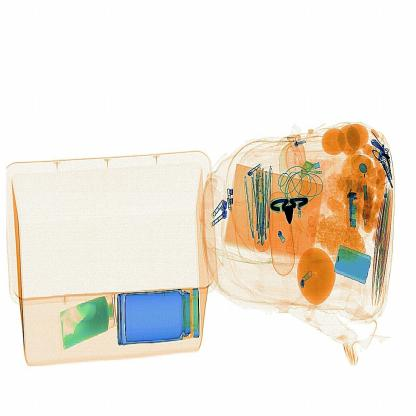gun: (266, 184, 310, 226)
